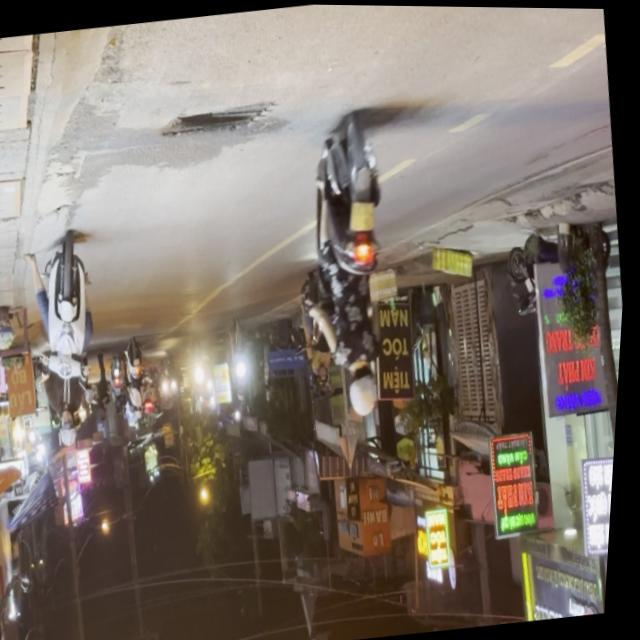helmet: (349, 363, 386, 417), (58, 404, 85, 447)
licenseplate: (290, 109, 416, 423), (19, 230, 118, 453)
nohelmet: (350, 200, 379, 231)
